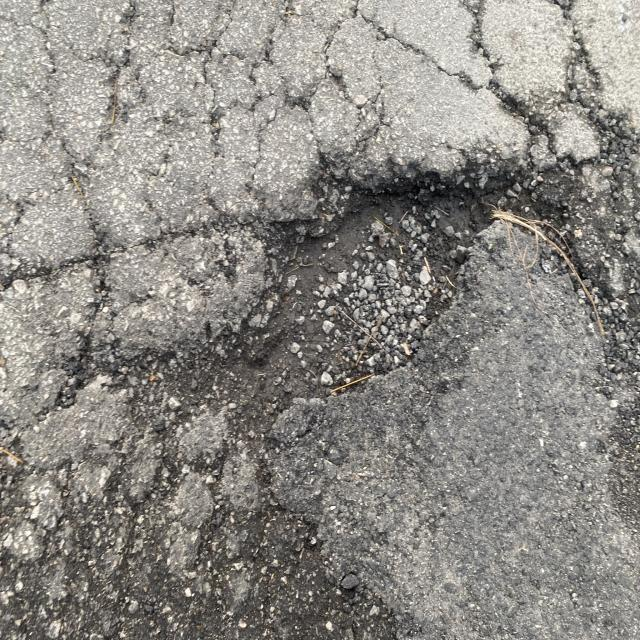pothole: (261, 102, 589, 330)
